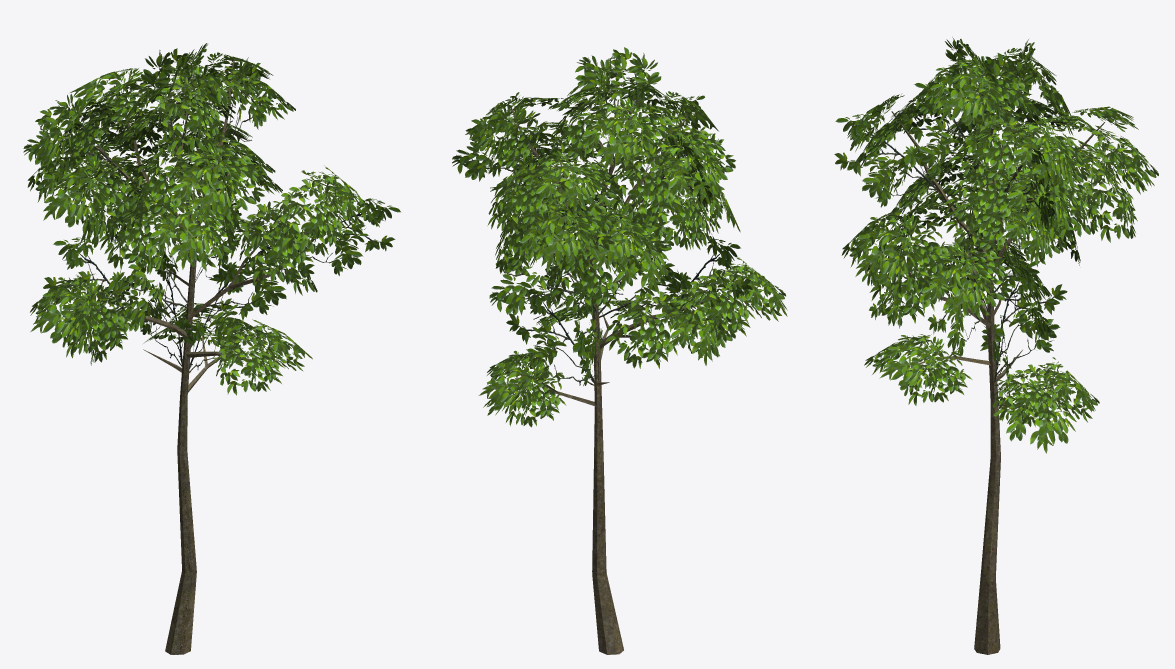
The model's file is tree2.obj.
3 renders of one model, left to right at view 1: azimuth 30°, elevation 25°; view 2: azimuth 150°, elevation 25°; view 3: azimuth 270°, elevation 25°, orthographic. The views are drawn at different scales.
Parts seen in each view (by area): view 1: polySurface2365, polySurface2327; view 2: polySurface2365, polySurface2327; view 3: polySurface2365, polySurface2327.
Boxes of the visible parts, x1,y1,x2,y2 form: polySurface2365: (23,43,400,395); polySurface2327: (86,59,327,654); polySurface2365: (452,47,787,427); polySurface2327: (511,99,738,654); polySurface2365: (834,37,1158,453); polySurface2327: (891,82,1104,654).
Bounding box in the file's own units: 8.71 × 15.83 × 7.59.
Materials: 2 (2 with a texture image).
